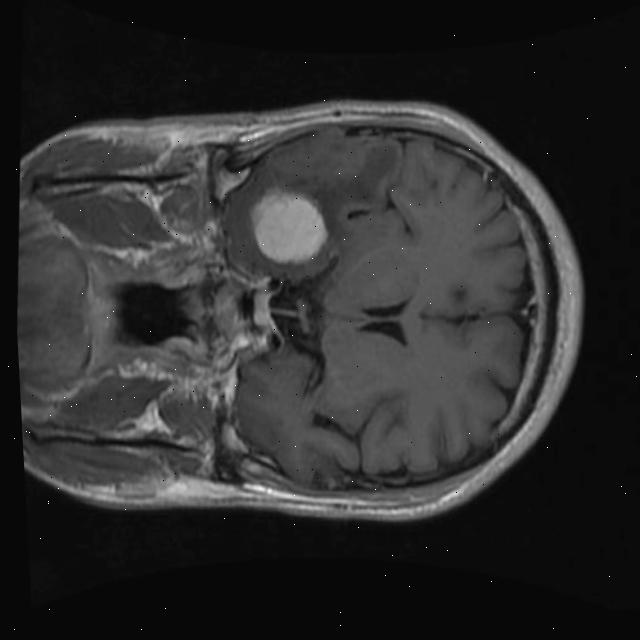Meningioma: (243, 181, 332, 268)
